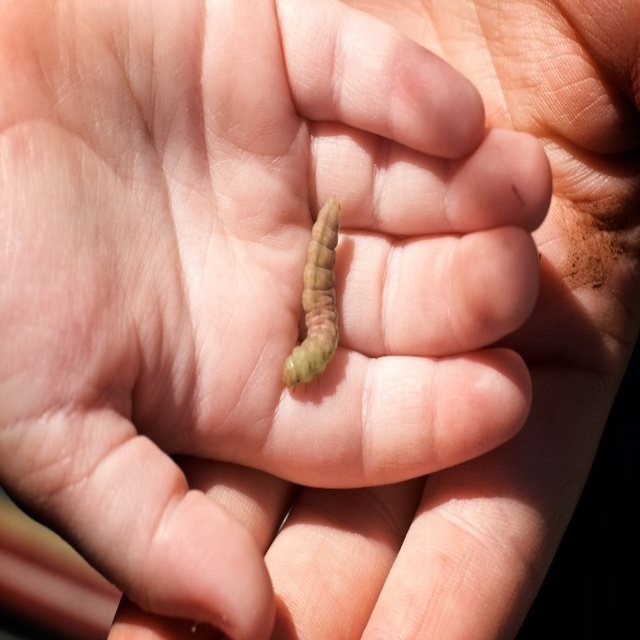Caterpillar: (284, 194, 340, 393)
